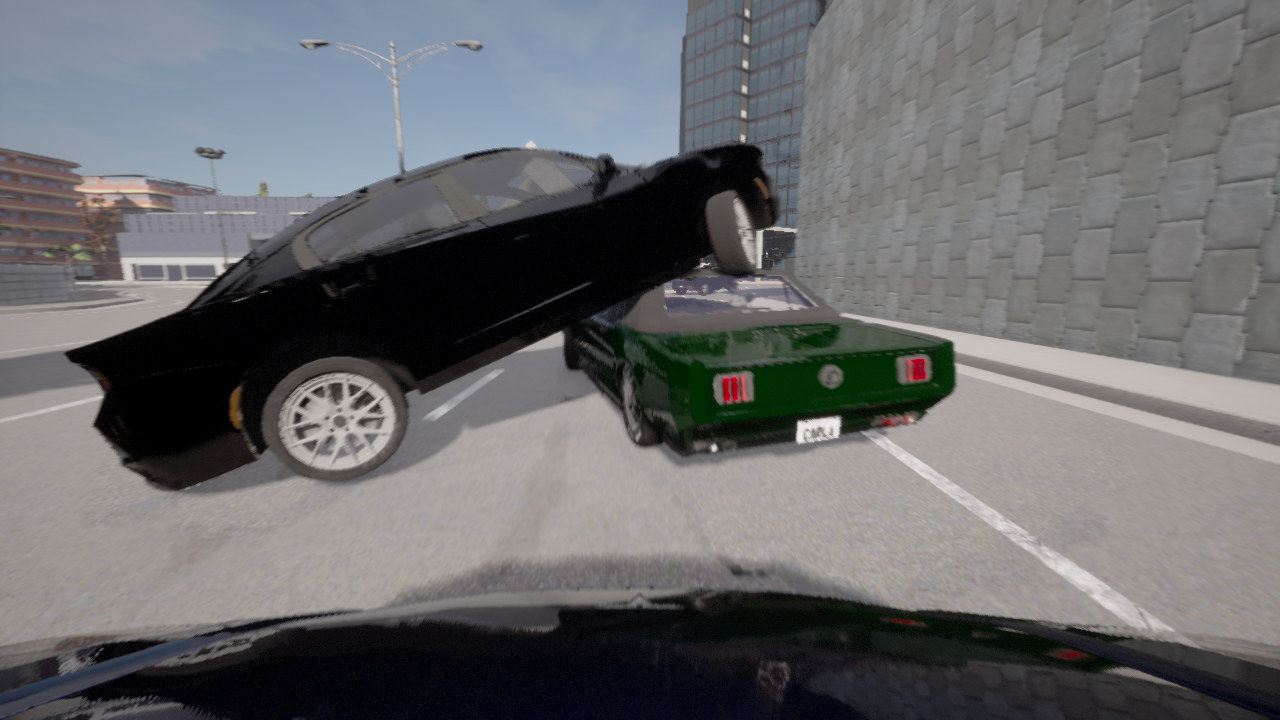cyclist: (65, 145, 782, 490), (0, 588, 1279, 719), (562, 268, 956, 456), (696, 262, 712, 267)
